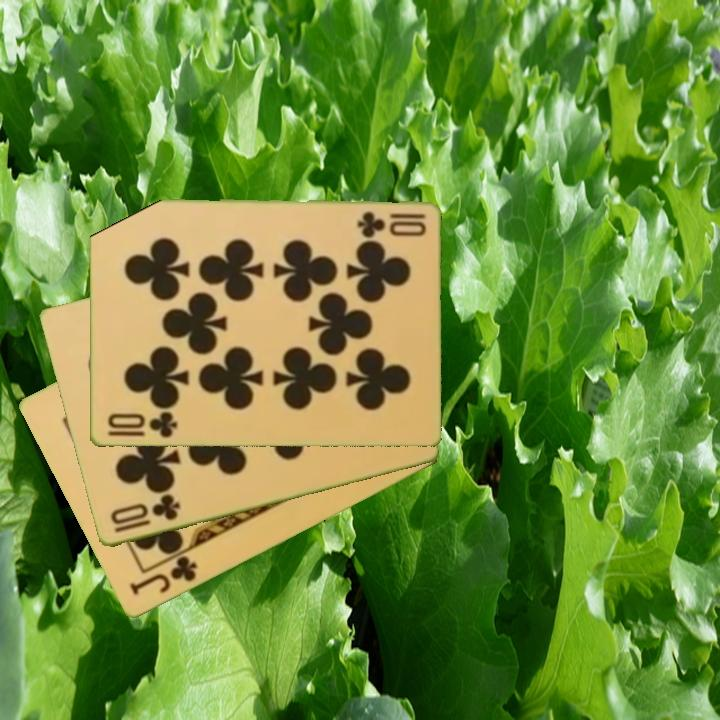10c: (106, 492, 183, 537), (104, 408, 180, 441), (353, 208, 428, 237)
Jc: (125, 552, 201, 599)
